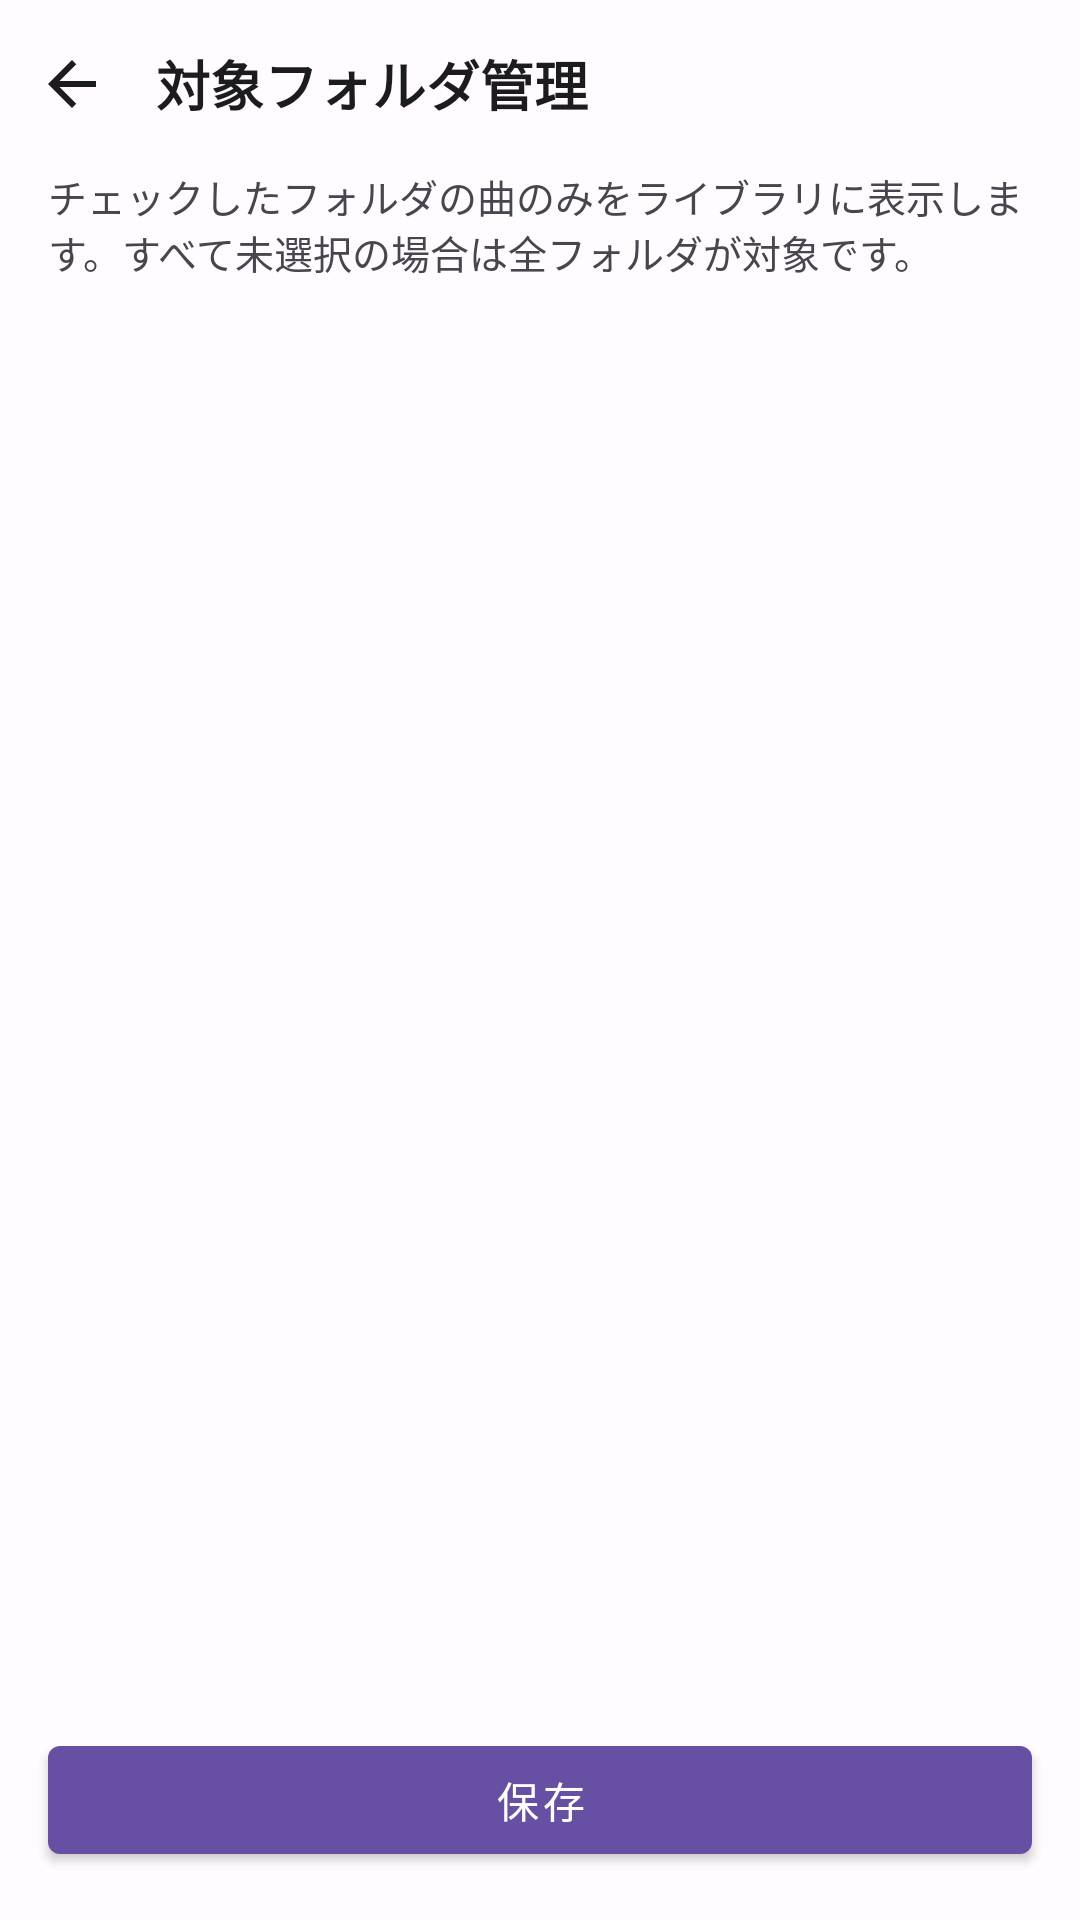

Named icons in this screenshot (1080px×1920px) and their centers, point (x, y):
戻る: point (72, 84)
